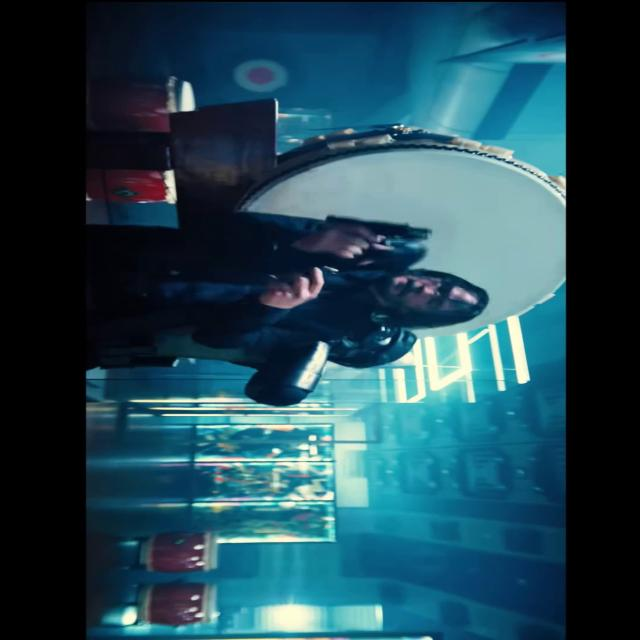weapons: (298, 203, 443, 267)
